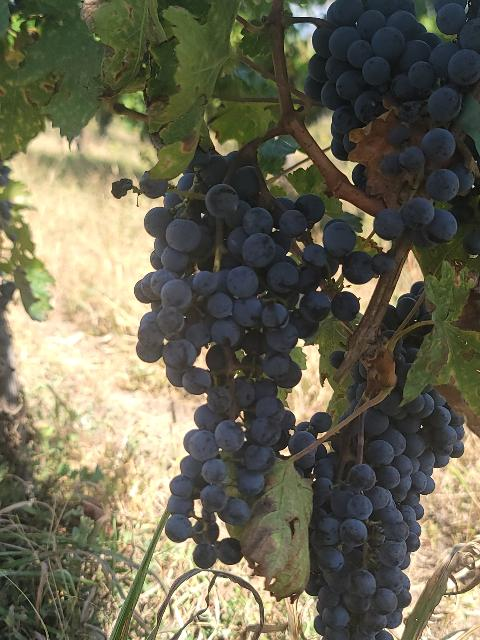grapes: (135, 148, 392, 569), (306, 390, 464, 640), (304, 0, 480, 201)
